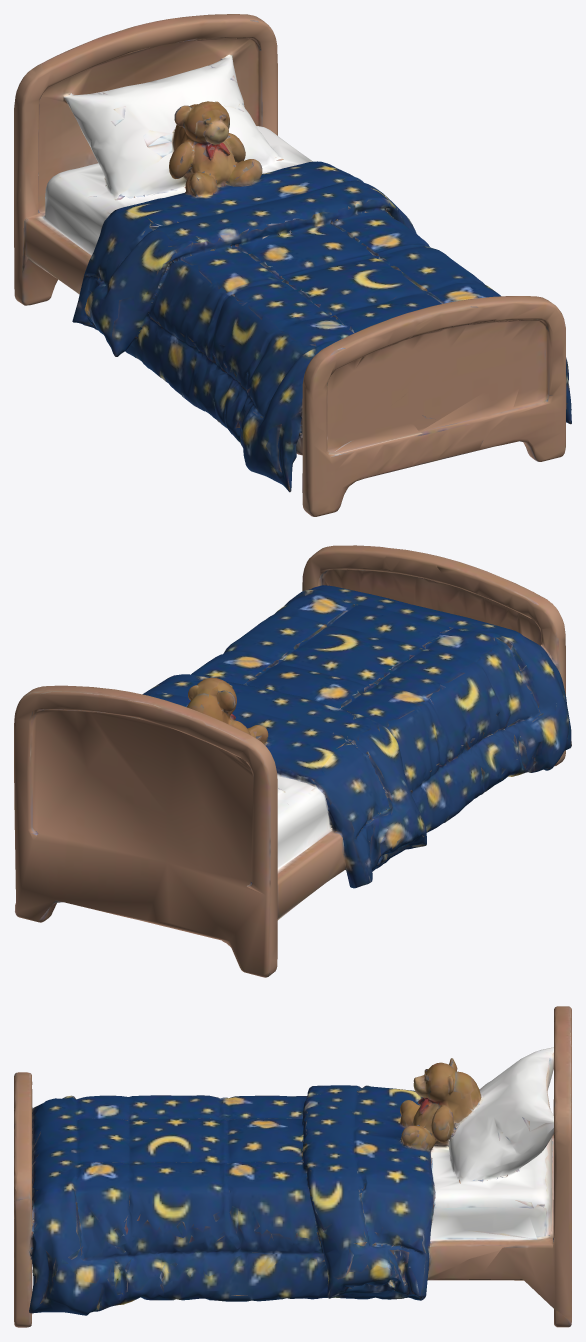
Rendered from bed.glb.
3 views of the same model, one above another, from view 1: azimuth 30°, elevation 25°; view 2: azimuth 150°, elevation 25°; view 3: azimuth 270°, elevation 25° (orthographic). The views are drawn at different scales.
Parts seen in each view (by area): view 1: Mesh_0; view 2: Mesh_0; view 3: Mesh_0.
Part boxes in pixels (x1,y1,x2,y2): Mesh_0: (14,14,571,516); Mesh_0: (14,545,571,977); Mesh_0: (14,1006,571,1327).
Bounding box in the file's own units: 1.18 × 0.8691 × 1.9.
1 material, 1 textured.
